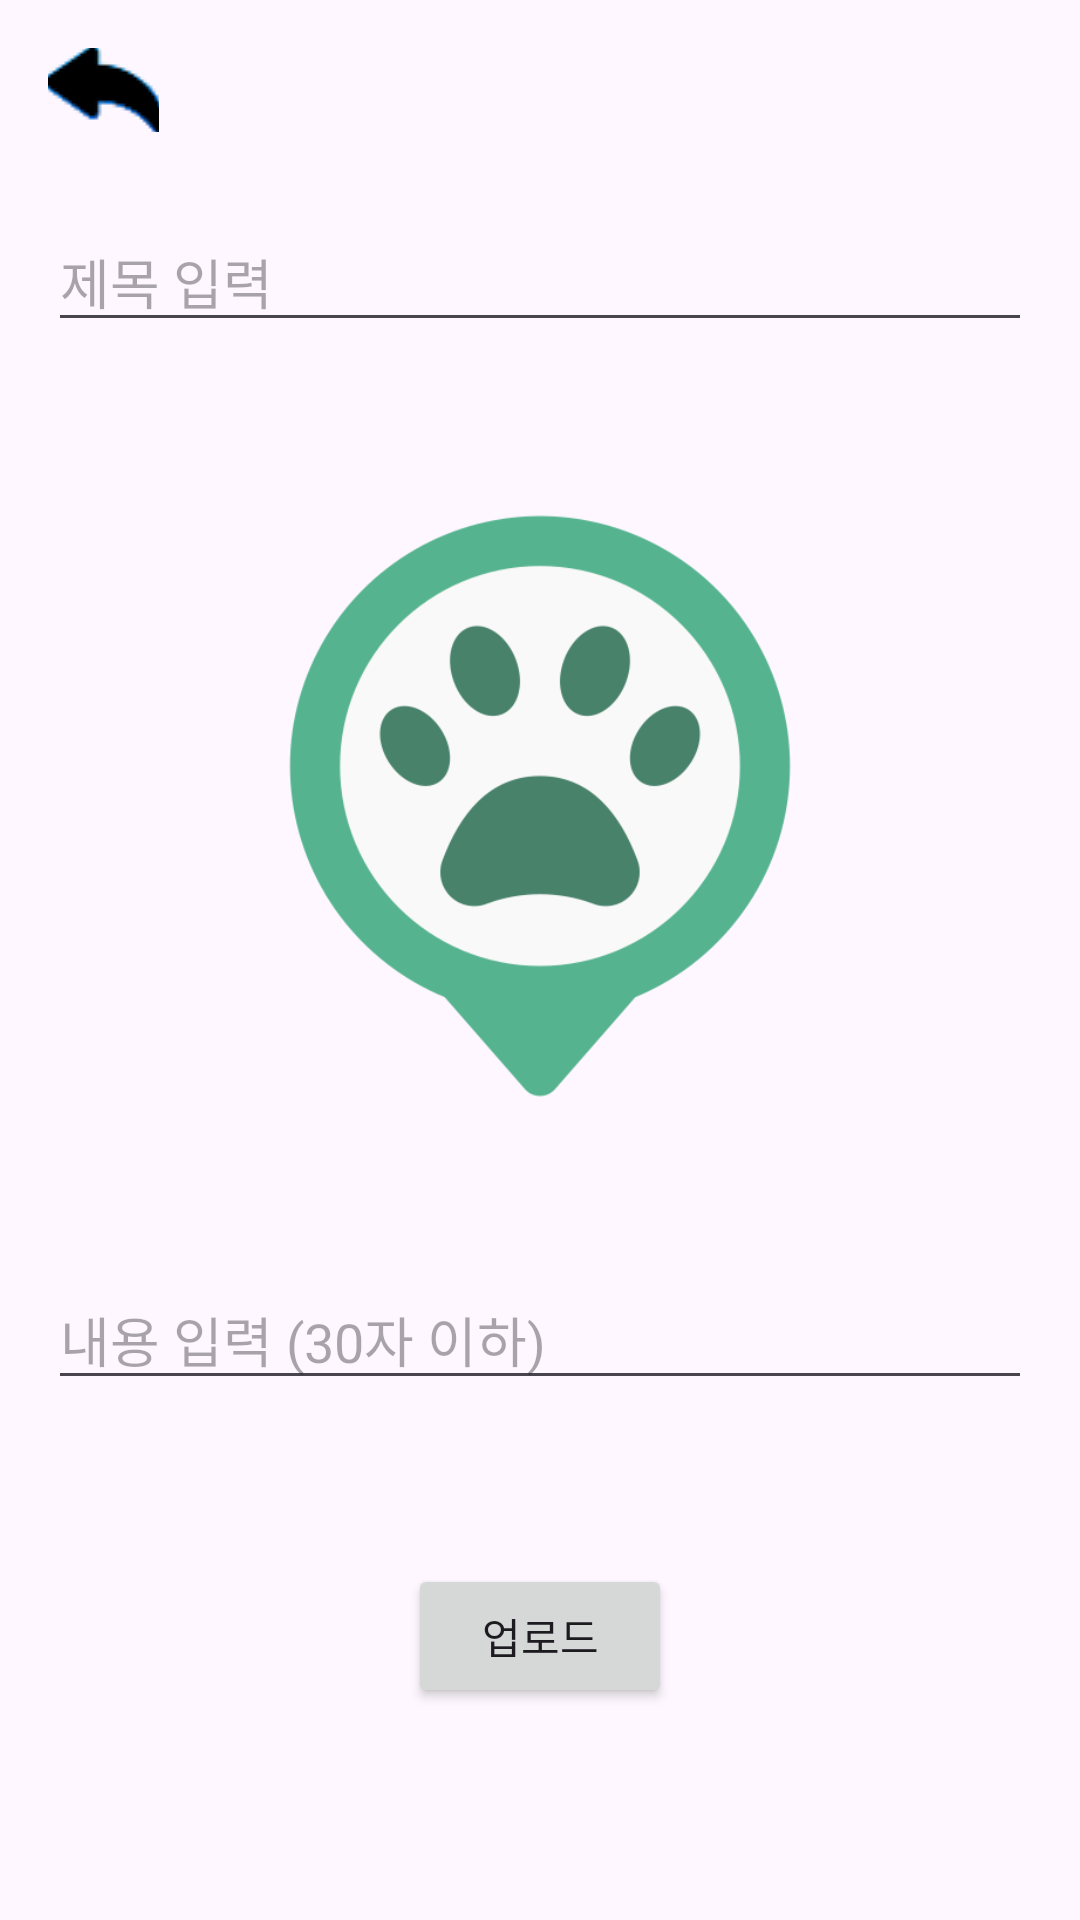

Where to tap for icons on this 1080*1920 app screen, as (x,y):
뒤로가기: (103,90)
